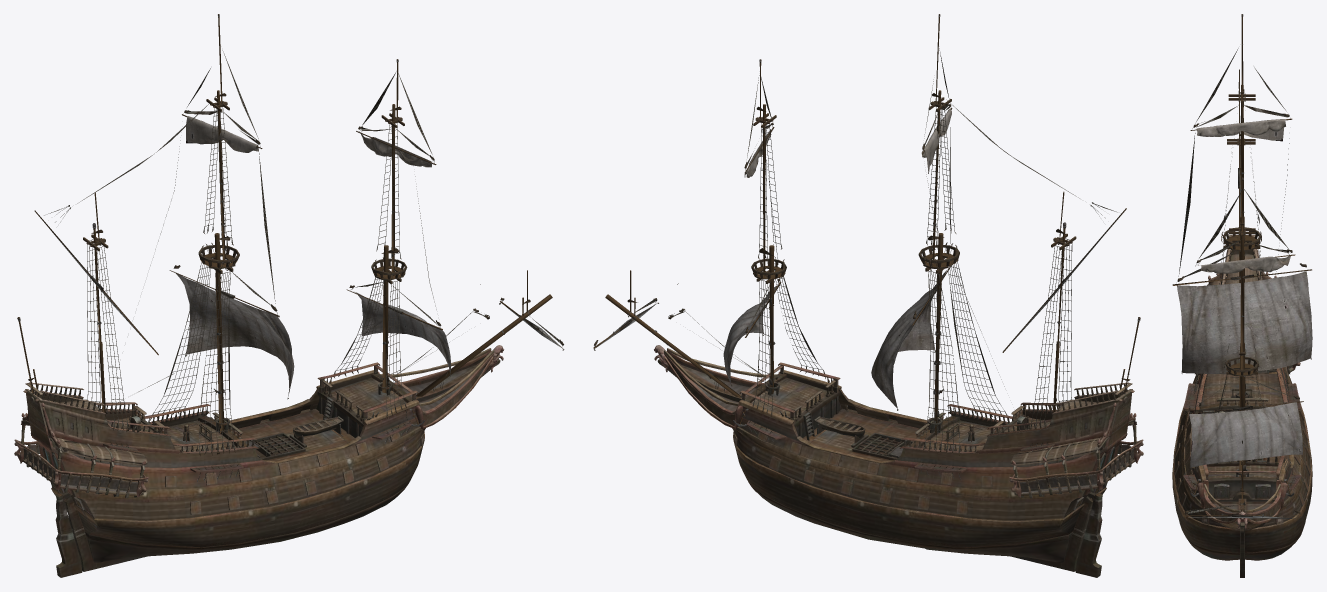
File: ship.glb
3 views of the same model, side by side, from view 1: azimuth 30°, elevation 25°; view 2: azimuth 150°, elevation 25°; view 3: azimuth 270°, elevation 25° (orthographic). The views are drawn at different scales.
Visible parts, largest first — view 1: dutch_ship_large_01_hull, dutch_ship_large_01_rigging, dutch_ship_large_01_sails; view 2: dutch_ship_large_01_hull, dutch_ship_large_01_rigging, dutch_ship_large_01_sails; view 3: dutch_ship_large_01_sails, dutch_ship_large_01_hull, dutch_ship_large_01_rigging.
Boxes of the visible parts, x1=… form: dutch_ship_large_01_hull: x1=14, y1=345, x2=504, y2=577; dutch_ship_large_01_rigging: x1=17, y1=14, x2=564, y2=482; dutch_ship_large_01_sails: x1=176, y1=116, x2=450, y2=396; dutch_ship_large_01_hull: x1=654, y1=345, x2=1143, y2=577; dutch_ship_large_01_rigging: x1=593, y1=14, x2=1140, y2=479; dutch_ship_large_01_sails: x1=723, y1=109, x2=951, y2=408; dutch_ship_large_01_sails: x1=1177, y1=119, x2=1312, y2=467; dutch_ship_large_01_hull: x1=1172, y1=235, x2=1312, y2=577; dutch_ship_large_01_rigging: x1=1172, y1=14, x2=1311, y2=518.
Size of the model in its own units: 34.25 by 32.05 by 8.39.
3 materials, 3 textured.
